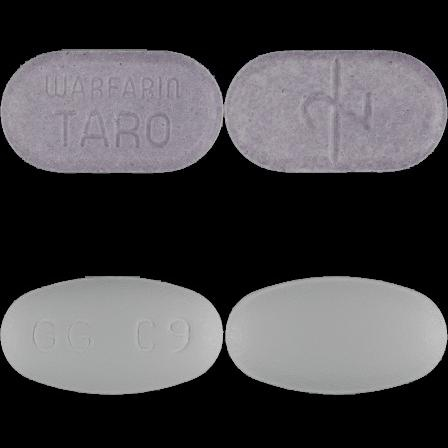49349-346: (0, 0, 224, 224)
